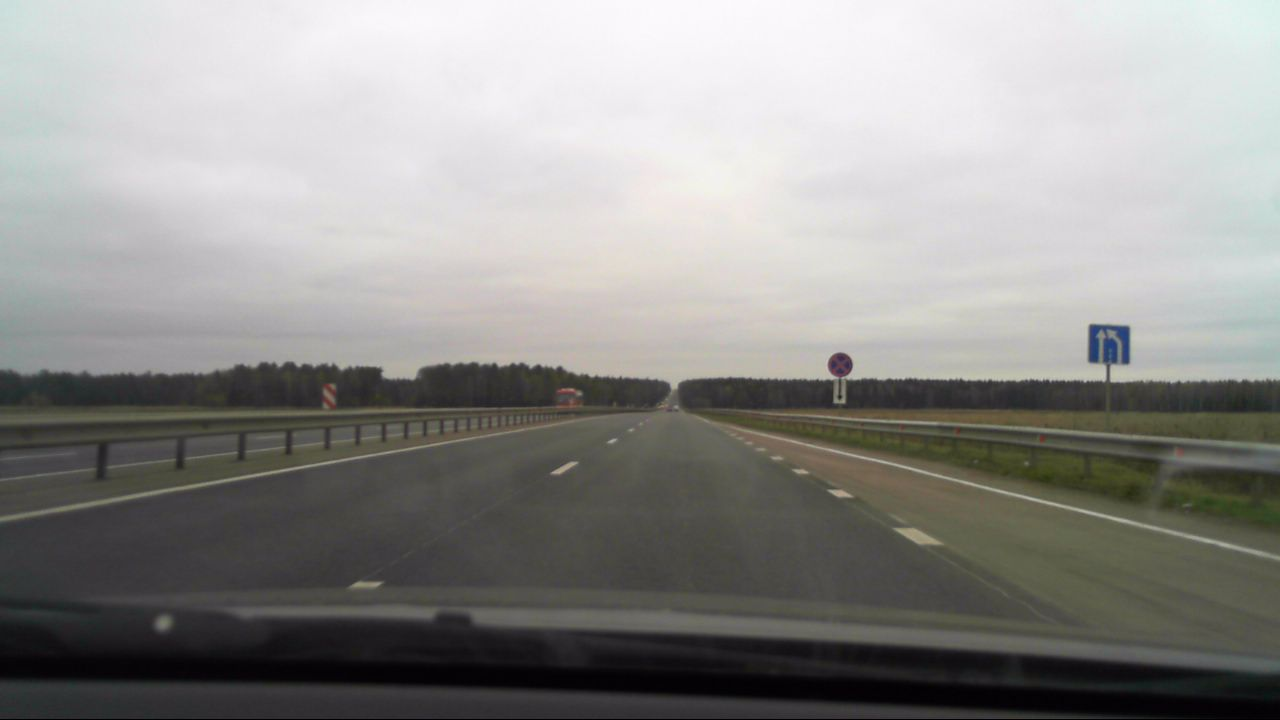No Parking: (827, 351, 853, 379)
